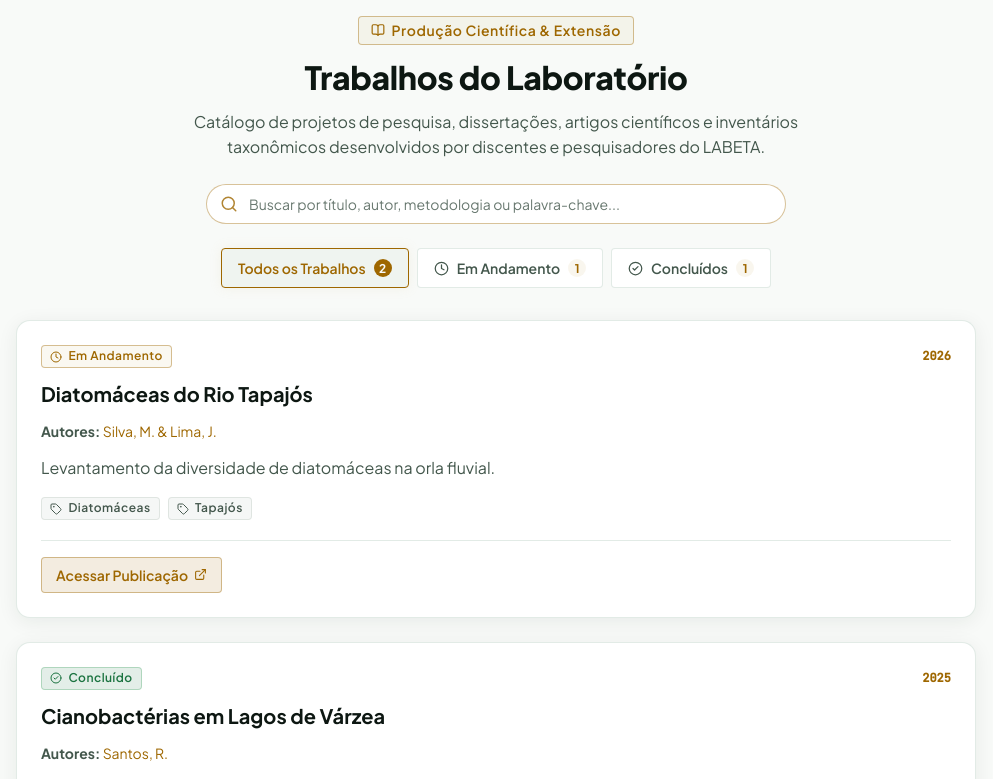
Test: Works Page Integration › filters works by search query
Expected: the heading "Diatomáceas do Rio Tapajós" is shown, [41, 381, 313, 406]
Type "várzea" into the search field named "Filtrar trabalhos científicos".
click(496, 204); type("várzea")  # box [206, 184, 786, 224]
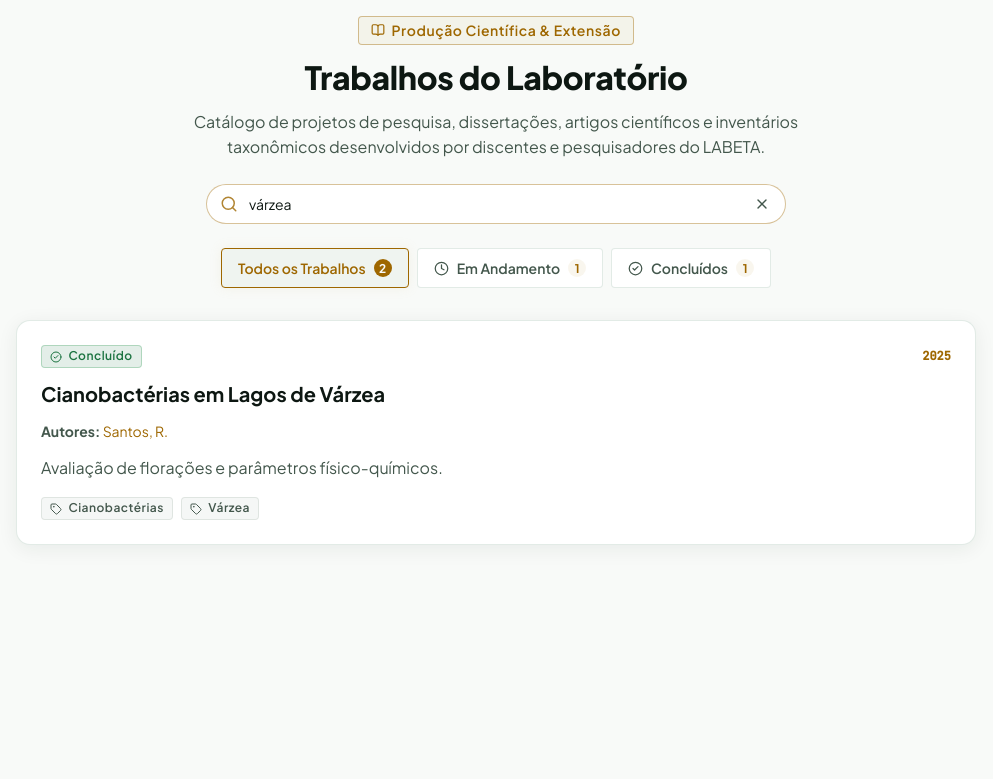
Expected: the heading "Cianobactérias em Lagos de Várzea" is shown, [41, 381, 385, 406]
Now the heading "Diatomáceas do Rio Tapajós" is gone
